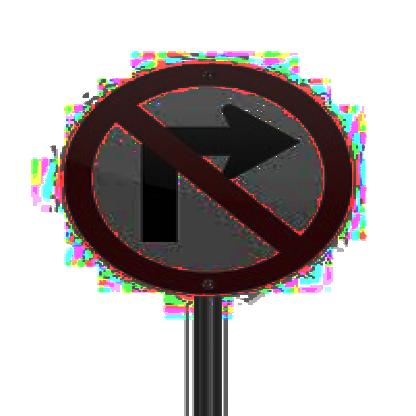No right turn: (55, 60, 353, 296)
